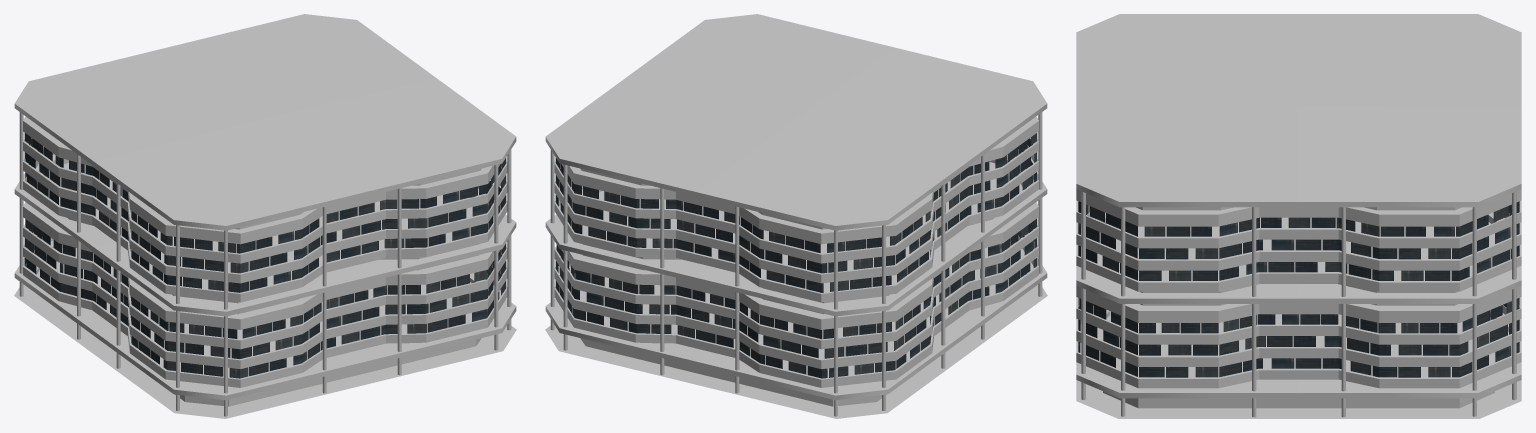
The picture shows the model from 3 angles, left to right: view 1: azimuth 30°, elevation 25°; view 2: azimuth 150°, elevation 25°; view 3: azimuth 270°, elevation 25°; orthographic projection. The views are drawn at different scales.
Parts seen in each view (by area): view 1: QD-04; view 2: QD-04; view 3: QD-04.
Part boxes in pixels (x1=…): QD-04: x1=14, y1=14, x2=516, y2=418; QD-04: x1=545, y1=14, x2=1047, y2=418; QD-04: x1=1076, y1=14, x2=1521, y2=418.
Size of what is drawn, in the model's own units: 72 by 39.07 by 72.
